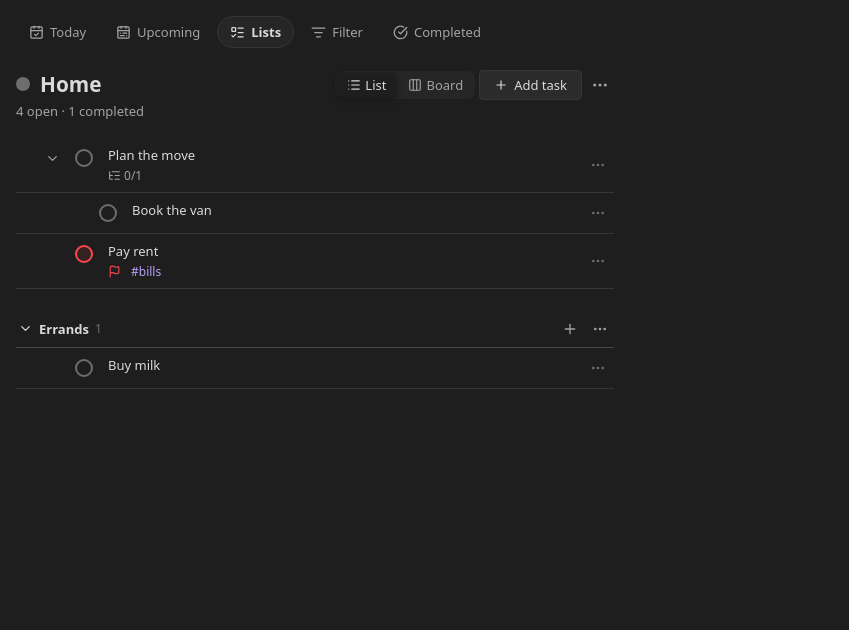
List page (ROADMAP item 4) › moves a task into a section from its menu
Click the button named "More for “Pay rent”": click(598, 261) [584,247,612,275]
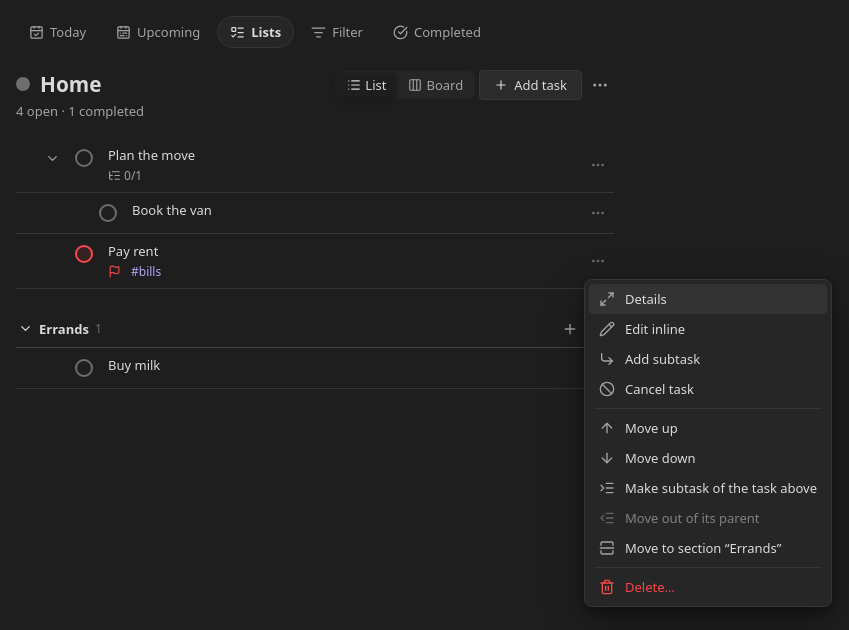
Click the menu item "Move to section “Errands”": click(708, 548) [589,533,827,563]
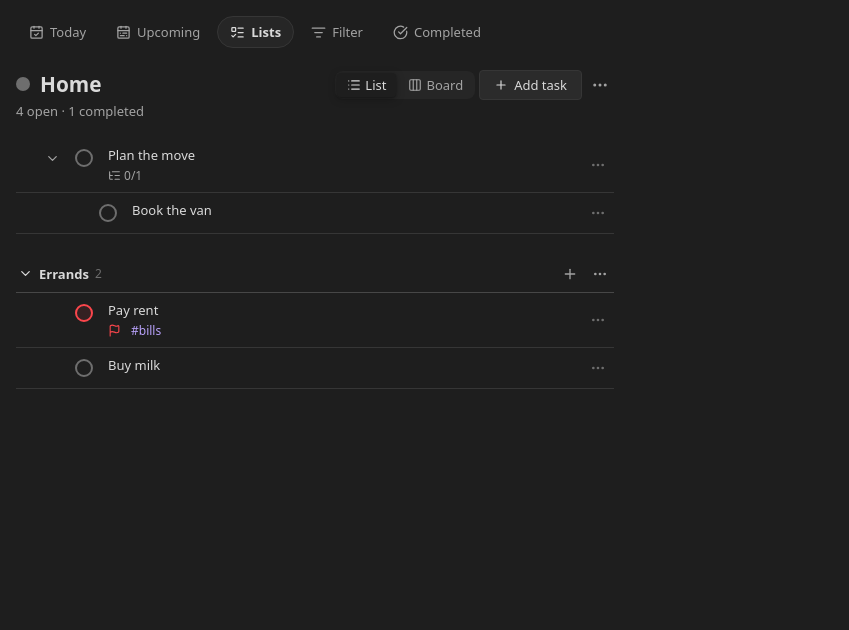
Expected: the text "2" is shown, [95,265,102,282]
